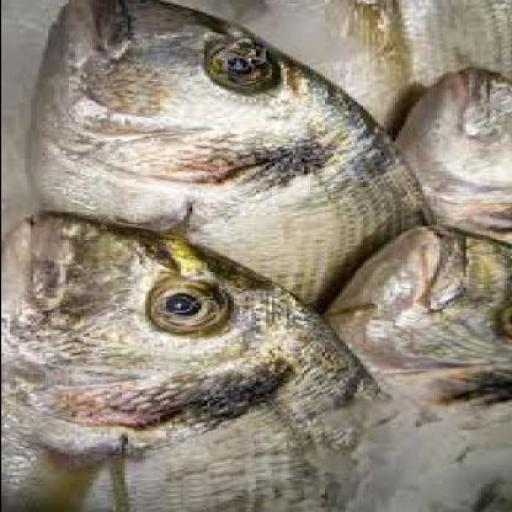biodegradable: (2, 1, 511, 511), (32, 2, 432, 316), (1, 213, 404, 511), (319, 226, 511, 512), (162, 1, 418, 134), (394, 70, 511, 249), (402, 2, 511, 98)
